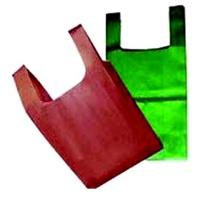plastic_bag: (11, 19, 170, 191), (97, 2, 201, 169)
